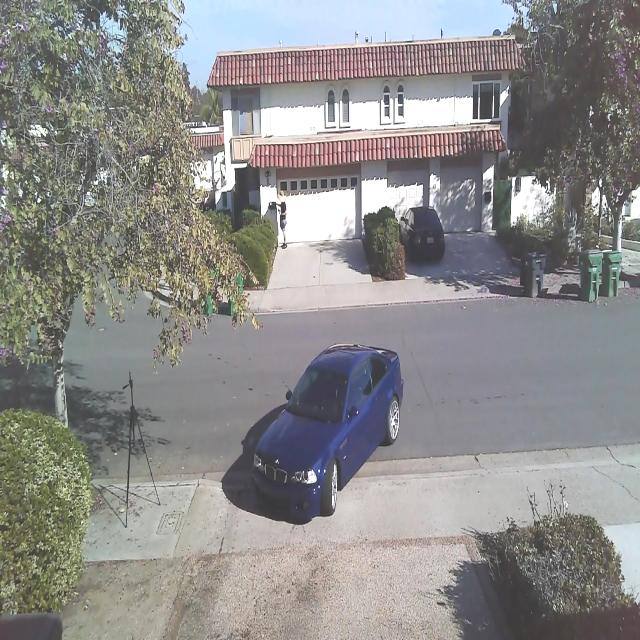Carbeetle: (244, 331, 408, 527)
Civilian: (399, 205, 445, 263)
